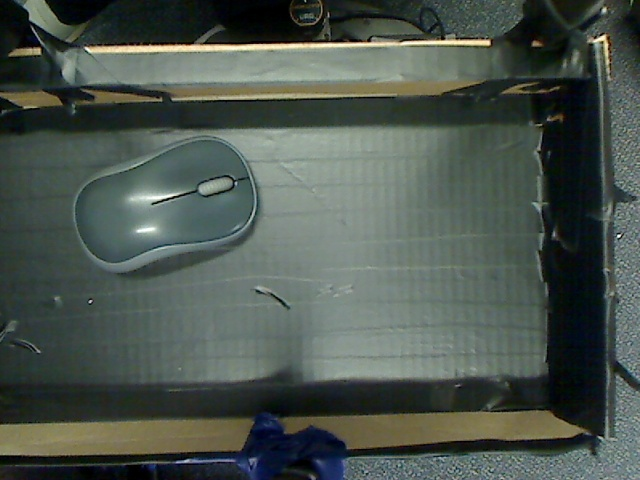mouse: (56, 126, 273, 303)
